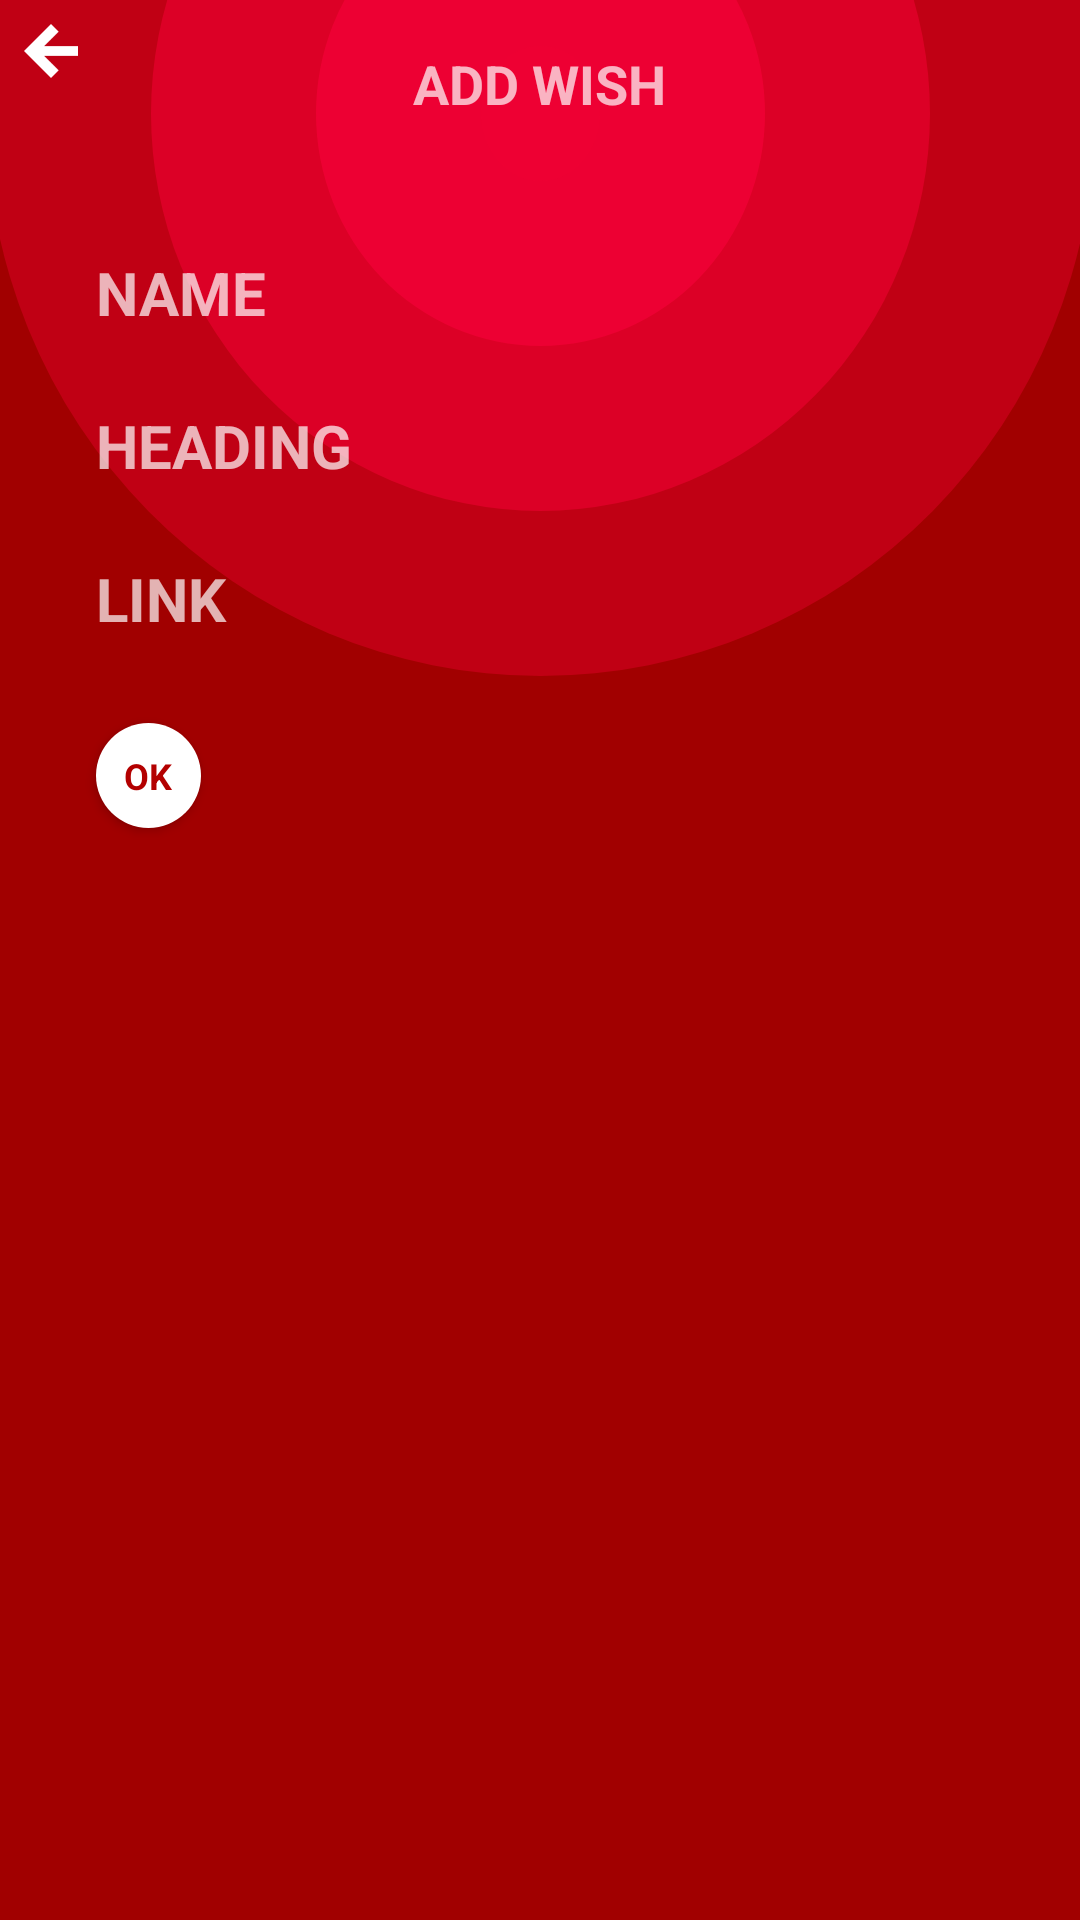

Screen size 1080×1920. Icon name, then its center in pixels as (x=x, y=y):
arrow left: (x=51, y=51)
